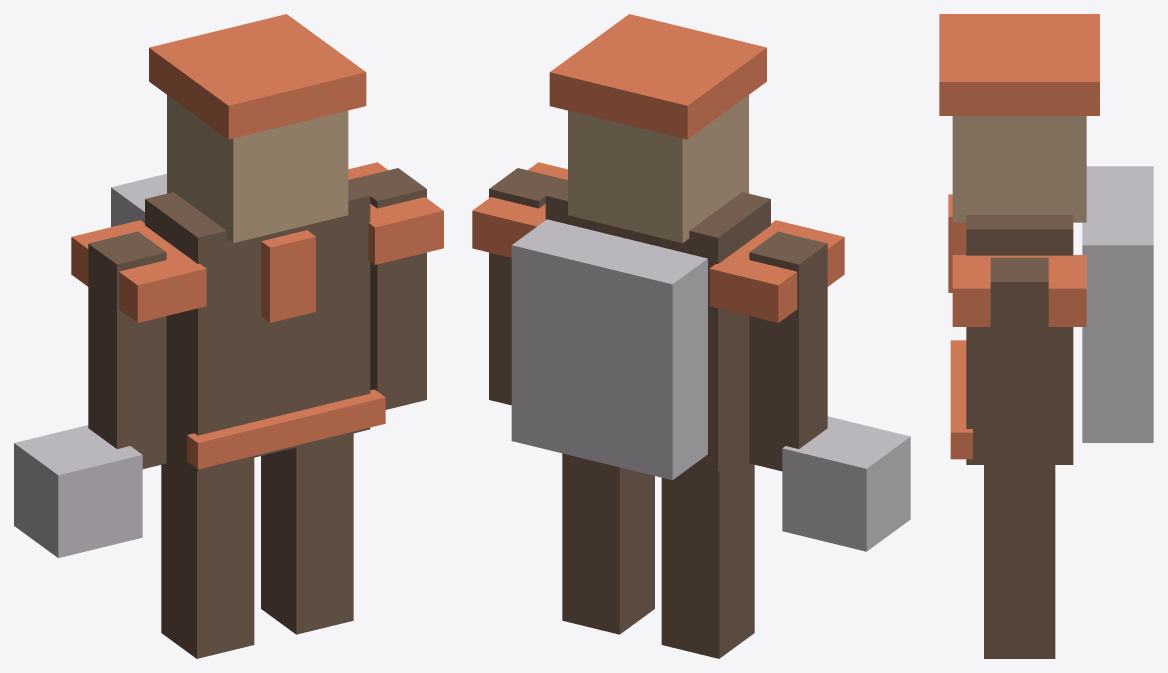
Rendered from 11_astra_voxmere_broker_at_command.glb.
The picture shows the model from 3 angles, left to right: view 1: azimuth 30°, elevation 25°; view 2: azimuth 150°, elevation 25°; view 3: azimuth 270°, elevation 25°; orthographic projection.
Parts seen in each view (by area): view 1: Astra Voxmere, Broker at Command; view 2: Astra Voxmere, Broker at Command; view 3: Astra Voxmere, Broker at Command.
Part boxes in pixels (<box>): Astra Voxmere, Broker at Command: <box>14,14,443,658</box>; Astra Voxmere, Broker at Command: <box>472,14,910,658</box>; Astra Voxmere, Broker at Command: <box>939,14,1153,658</box>.
Size of the model in its own units: 1.05 by 1.49 by 0.506.
